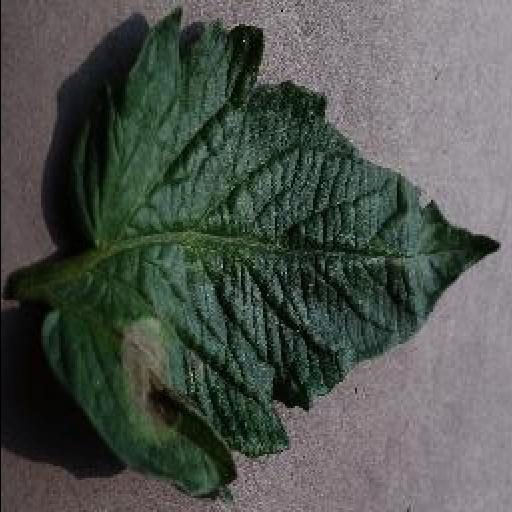disease_tomato: (44, 9, 506, 511)
